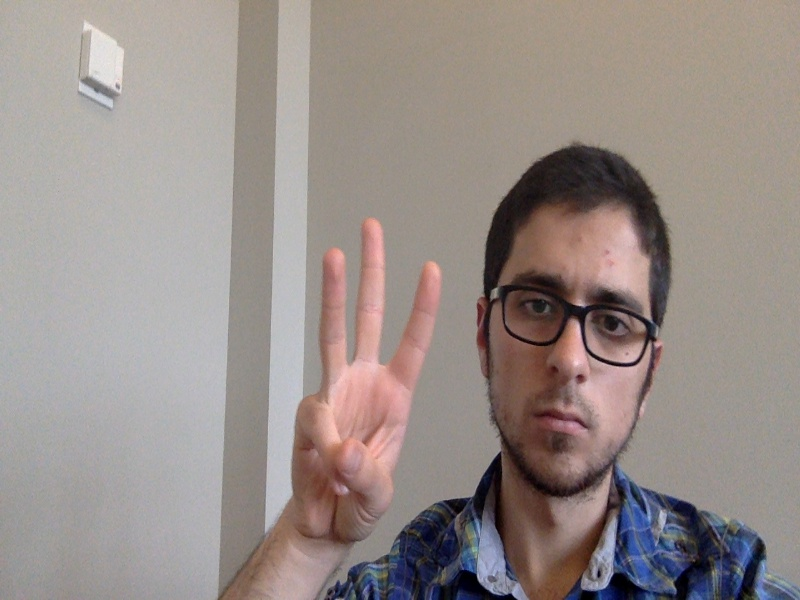3-hand: (290, 220, 441, 540)
